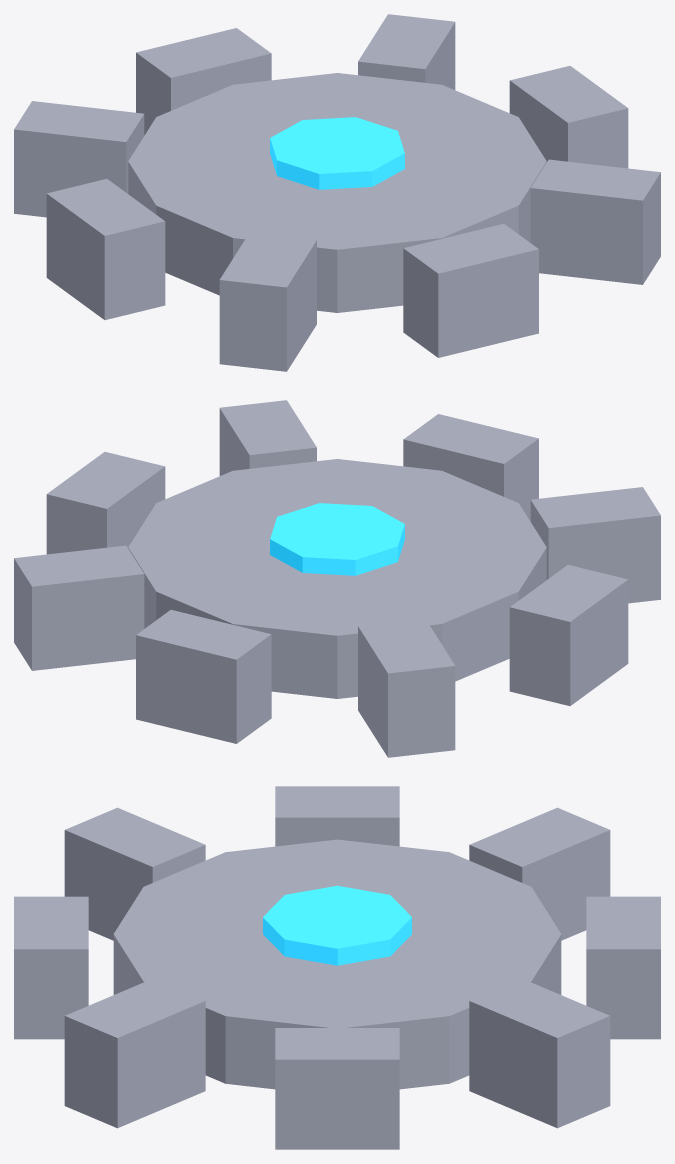
Rendered from gear.glb.
The picture shows the model from 3 angles, top to bottom: view 1: azimuth 30°, elevation 25°; view 2: azimuth 150°, elevation 25°; view 3: azimuth 270°, elevation 25°; orthographic projection. The views are drawn at different scales.
Parts seen in each view (by area): view 1: disc, tooth_2, tooth_1, tooth_4, tooth_3, tooth_5, tooth_0, hub, tooth_6, tooth_7; view 2: disc, tooth_6, tooth_7, tooth_4, tooth_5, tooth_3, tooth_0, hub, tooth_2, tooth_1; view 3: disc, tooth_1, tooth_7, tooth_0, tooth_3, tooth_5, tooth_2, tooth_6, hub, tooth_4.
Boxes of the visible parts, <box> form: disc: <box>128,73,546,312</box>; tooth_2: <box>403,223,538,357</box>; tooth_1: <box>530,159,660,284</box>; tooth_4: <box>46,179,165,319</box>; tooth_3: <box>219,232,316,371</box>; tooth_5: <box>14,101,144,217</box>; tooth_0: <box>509,66,628,168</box>; hub: <box>270,117,404,189</box>; tooth_6: <box>136,28,271,135</box>; tooth_7: <box>358,14,455,89</box>; disc: <box>128,459,546,698</box>; tooth_6: <box>136,609,271,743</box>; tooth_7: <box>14,545,144,670</box>; tooth_4: <box>509,565,628,705</box>; tooth_5: <box>358,618,455,757</box>; tooth_3: <box>530,487,660,603</box>; tooth_0: <box>46,452,165,554</box>; hub: <box>270,503,404,575</box>; tooth_2: <box>403,414,538,521</box>; tooth_1: <box>219,400,316,475</box>; disc: <box>113,839,561,1089</box>; tooth_1: <box>64,978,205,1128</box>; tooth_7: <box>469,978,610,1128</box>; tooth_0: <box>275,1028,399,1149</box>; tooth_3: <box>64,807,205,940</box>; tooth_5: <box>469,807,610,940</box>; tooth_2: <box>14,896,88,1039</box>; tooth_6: <box>586,896,660,1039</box>; hub: <box>263,885,411,965</box>; tooth_4: <box>275,786,399,846</box>.
Size of the model in its own units: 1.04 by 0.18 by 1.04.
